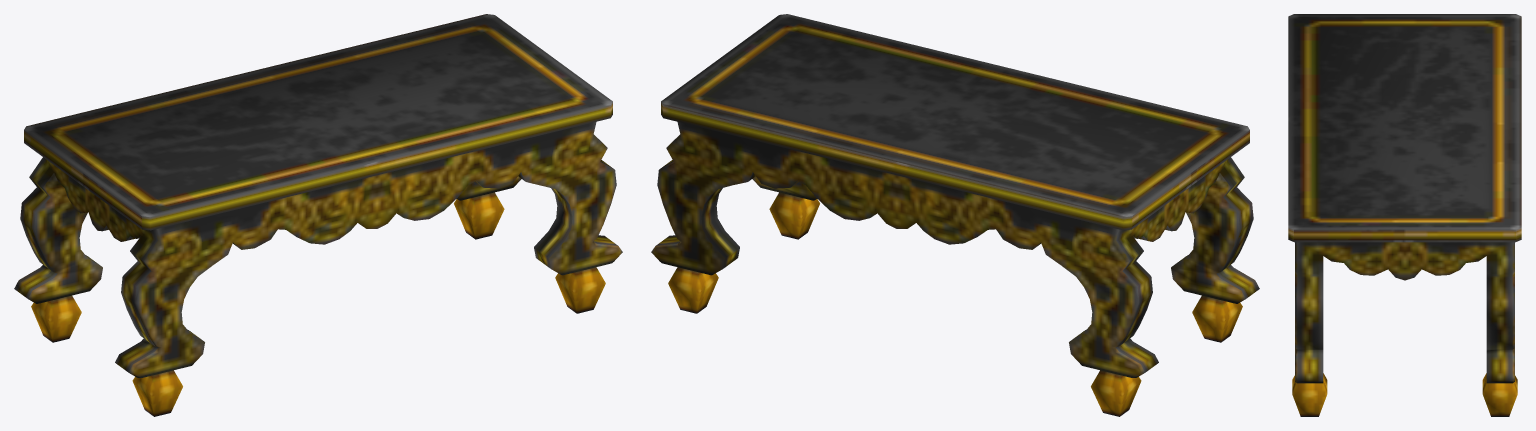
Rendered from int_gor_tableM.dae.
The picture shows the model from 3 angles, left to right: view 1: azimuth 30°, elevation 25°; view 2: azimuth 150°, elevation 25°; view 3: azimuth 270°, elevation 25°; orthographic projection. The views are drawn at different scales.
Visible parts, largest first — view 1: vsn_mesh_1_, vsn_mesh_0_; view 2: vsn_mesh_1_, vsn_mesh_0_; view 3: vsn_mesh_1_, vsn_mesh_0_.
Part boxes in pixels (<box>): vsn_mesh_1_: <box>24,14,612,230</box>; vsn_mesh_0_: <box>14,121,622,416</box>; vsn_mesh_1_: <box>661,14,1249,230</box>; vsn_mesh_0_: <box>651,121,1259,416</box>; vsn_mesh_1_: <box>1288,14,1521,242</box>; vsn_mesh_0_: <box>1292,242,1517,416</box>.
Bounding box in the file's own units: 59.93 × 24 × 26.11.
Materials: 2 (2 with a texture image).
